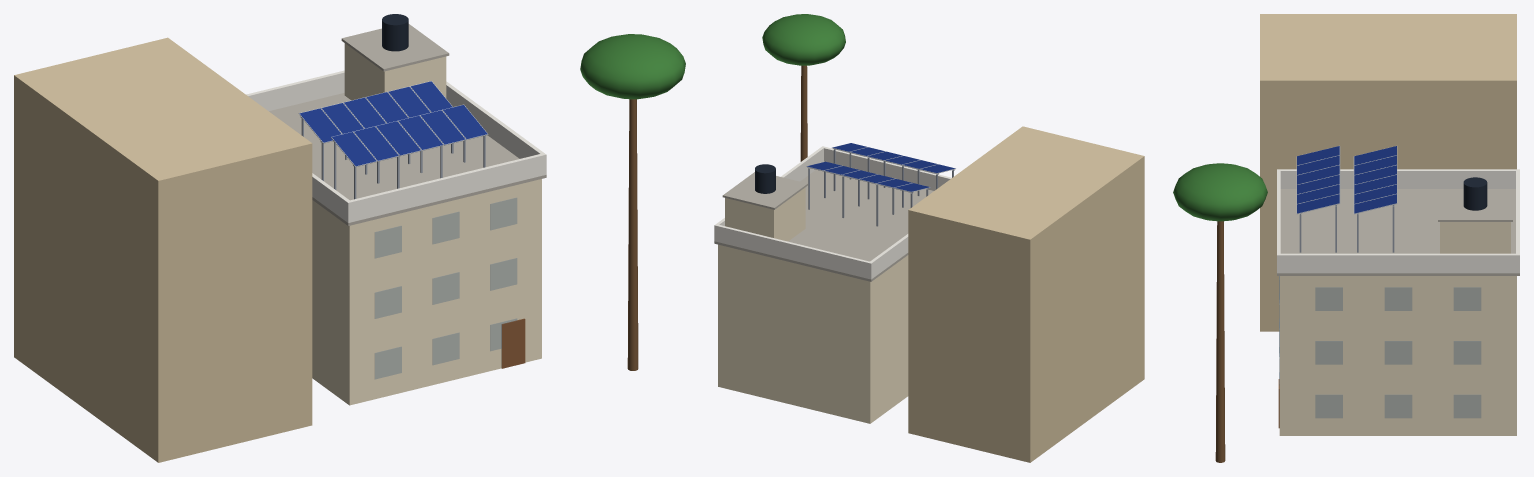
Rendered from sample-rooftop.glb.
3 views of the same model, side by side, from view 1: azimuth 30°, elevation 25°; view 2: azimuth 150°, elevation 25°; view 3: azimuth 270°, elevation 25° (orthographic). The views are drawn at different scales.
Parts seen in each view (by area): view 1: Neighbour_Building_West, Building, glass (×12), Roof_Slab, Crown, Parapet_S, Stair_Room_Walls, Trunk, Stair_Room_Slab, Parapet_N, Parapet_E, Main_Door (+10 smaller); view 2: Neighbour_Building_West, Building, Roof_Slab, Crown, Parapet_N, Stair_Room_Walls, Parapet_S, Stair_Room_Slab, Parapet_W, Parapet_E, Trunk, Water_Tank_1000L; view 3: Neighbour_Building_West, Building, Roof_Slab, glass (×12), Parapet_E, Crown, Parapet_W, Stair_Room_Walls, Trunk, Stair_Room_Slab, Water_Tank_1000L, Window_E_1_1 (+10 smaller).
Boxes of the visible parts, x1=… form: Neighbour_Building_West: x1=14, y1=37, x2=312, y2=462; Building: x1=312, y1=179, x2=541, y2=405; glass (×12): x1=299, y1=81, x2=487, y2=166; Roof_Slab: x1=269, y1=93, x2=546, y2=225; Crown: x1=580, y1=34, x2=685, y2=99; Parapet_S: x1=346, y1=153, x2=546, y2=222; Stair_Room_Walls: x1=344, y1=43, x2=446, y2=100; Trunk: x1=627, y1=99, x2=638, y2=370; Stair_Room_Slab: x1=341, y1=24, x2=449, y2=71; Parapet_N: x1=246, y1=70, x2=344, y2=111; Parapet_E: x1=446, y1=81, x2=546, y2=174; Main_Door: x1=501, y1=318, x2=525, y2=368; Neighbour_Building_West: x1=908, y1=126, x2=1144, y2=462; Building: x1=718, y1=244, x2=908, y2=423; Roof_Slab: x1=714, y1=169, x2=933, y2=281; Crown: x1=762, y1=14, x2=845, y2=65; Parapet_N: x1=714, y1=224, x2=872, y2=279; Stair_Room_Walls: x1=725, y1=187, x2=805, y2=241; Parapet_S: x1=821, y1=146, x2=951, y2=190; Stair_Room_Slab: x1=722, y1=172, x2=807, y2=209; Parapet_W: x1=868, y1=234, x2=908, y2=278; Parapet_E: x1=714, y1=146, x2=824, y2=241; Trunk: x1=800, y1=65, x2=807, y2=161; Water_Tank_1000L: x1=755, y1=164, x2=775, y2=193; Neighbour_Building_West: x1=1260, y1=14, x2=1516, y2=331; Building: x1=1279, y1=276, x2=1516, y2=435; Roof_Slab: x1=1277, y1=189, x2=1519, y2=275; glass (×12): x1=1297, y1=146, x2=1396, y2=213; Parapet_E: x1=1277, y1=253, x2=1519, y2=273; Crown: x1=1173, y1=163, x2=1267, y2=221; Parapet_W: x1=1277, y1=169, x2=1519, y2=188; Stair_Room_Walls: x1=1440, y1=222, x2=1510, y2=253; Trunk: x1=1215, y1=221, x2=1225, y2=462; Stair_Room_Slab: x1=1438, y1=191, x2=1512, y2=221; Water_Tank_1000L: x1=1463, y1=177, x2=1487, y2=210; Window_E_1_1: x1=1315, y1=341, x2=1342, y2=364.
Bounding box in the file's own units: 25.9 × 16.2 × 17.55.
